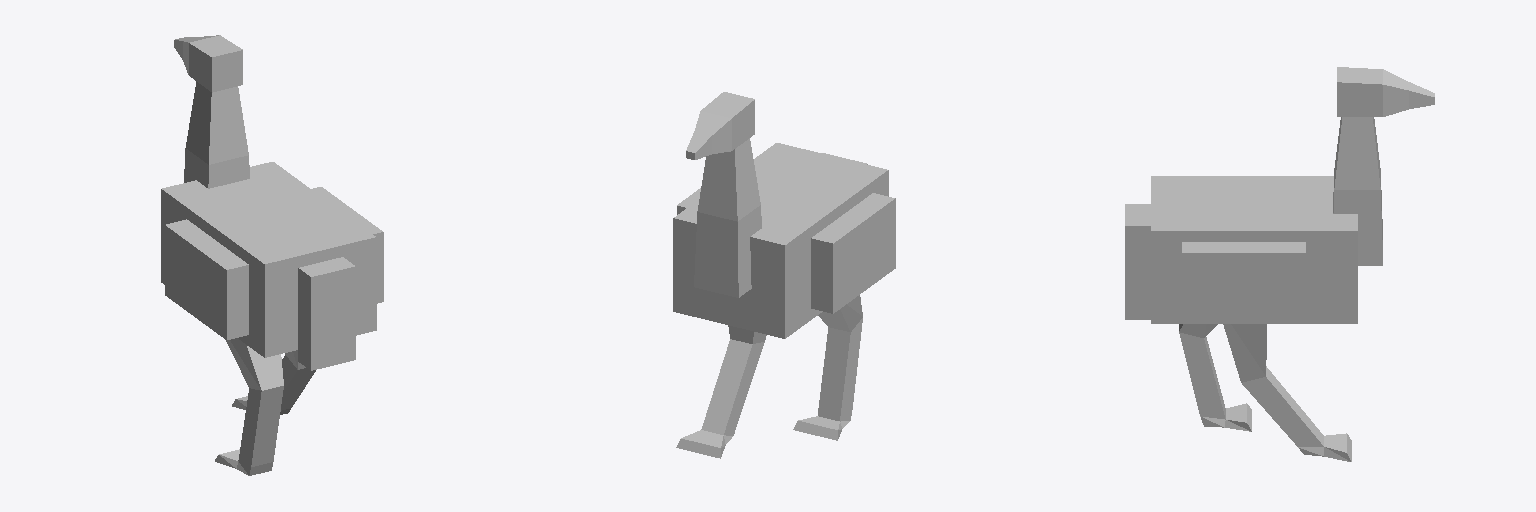
The model's file is Ostrich_000229.obj.
The picture shows the model from 3 angles: view 1: azimuth 30°, elevation 25°; view 2: azimuth 150°, elevation 25°; view 3: azimuth 270°, elevation 25°; orthographic projection.
Parts seen in each view (by area): view 1: Cube_Cube.001; view 2: Cube_Cube.001; view 3: Cube_Cube.001.
Boxes of the visible parts, box(x1,y1,x2,y2) form: Cube_Cube.001: box(161, 35, 383, 475); Cube_Cube.001: box(673, 92, 895, 458); Cube_Cube.001: box(1125, 67, 1434, 461).
Bounding box in the file's own units: 0.7009 × 1.55 × 1.2.